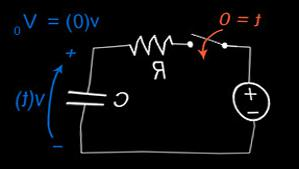Battery: (220, 74, 276, 131)
